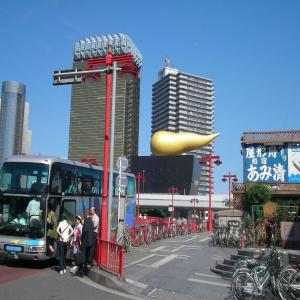Vehicle-registration-plate: (7, 246, 23, 254)
